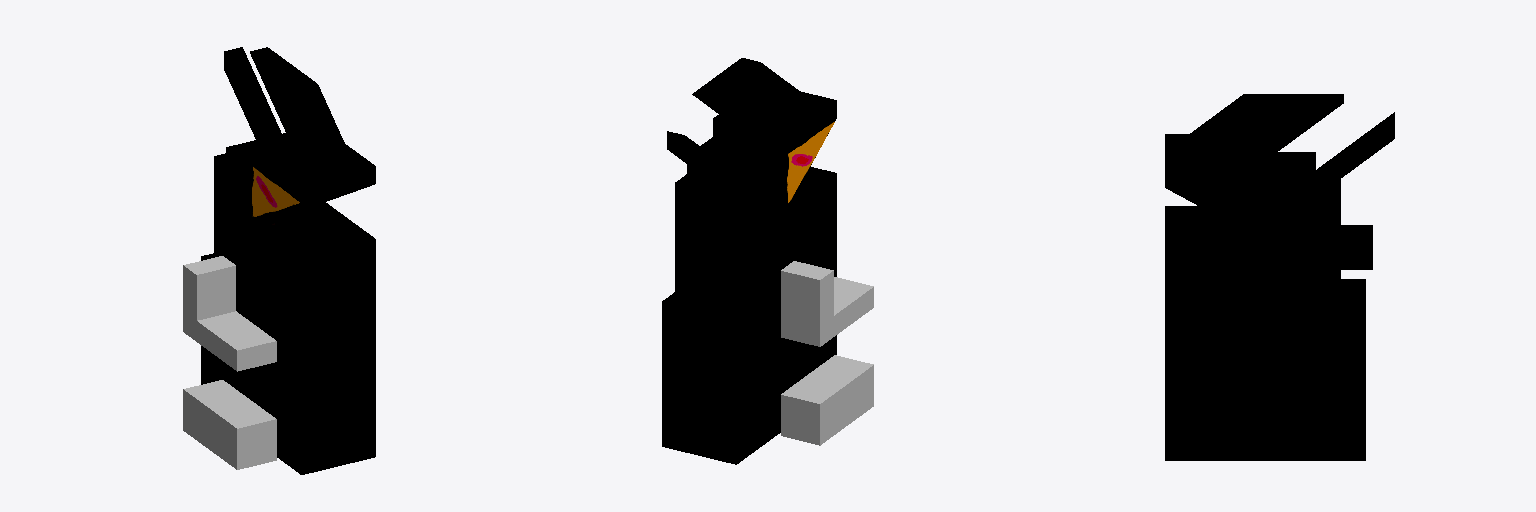
3 views of the same model, side by side, from view 1: azimuth 30°, elevation 25°; view 2: azimuth 150°, elevation 25°; view 3: azimuth 270°, elevation 25° (orthographic).
Parts seen in each view (by area): view 1: Cube, body; view 2: Cube, body; view 3: Cube.
Boxes of the visible parts, <box> form: Cube: <box>183,47,375,474</box>; body: <box>183,380,276,468</box>; Cube: <box>662,58,873,464</box>; body: <box>781,356,873,445</box>; Cube: <box>1165,94,1394,460</box>.
Size of the model in its own units: 0.7189 by 1.92 by 1.14.
2 materials, 1 textured.